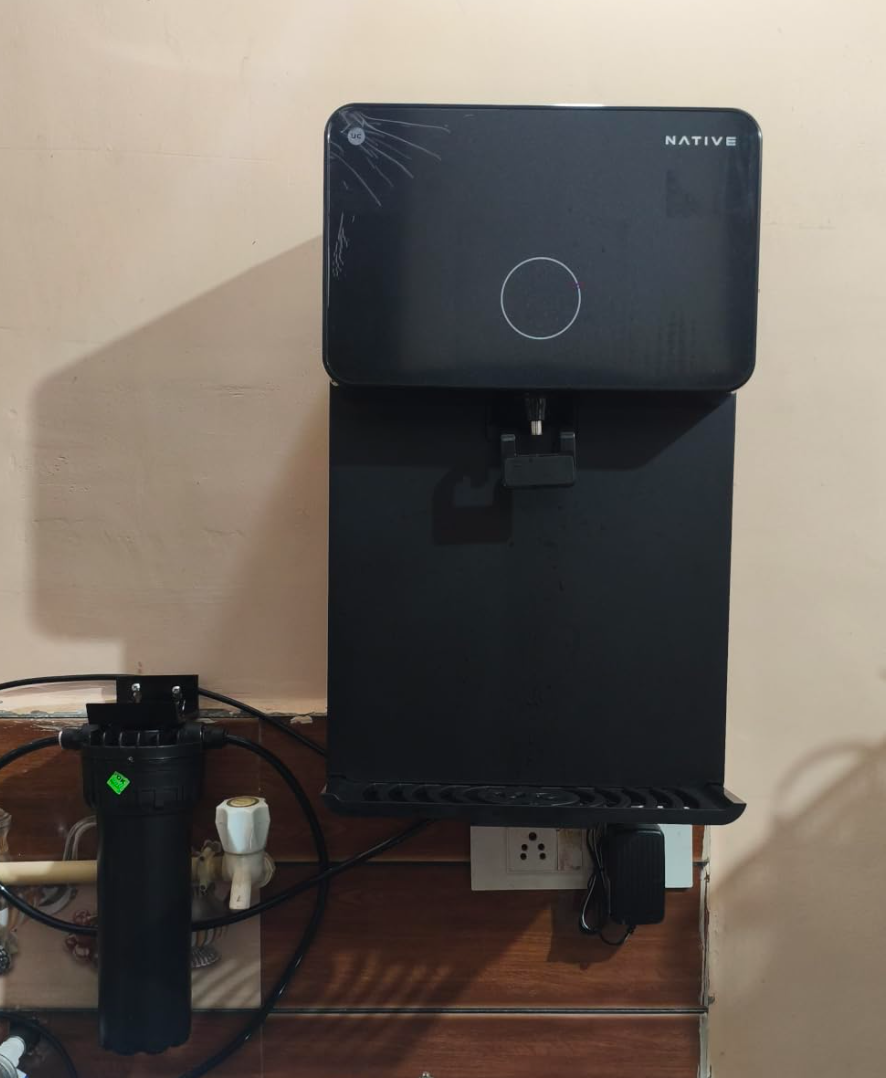water purifier: (312, 64, 775, 837), (773, 443, 814, 452)
